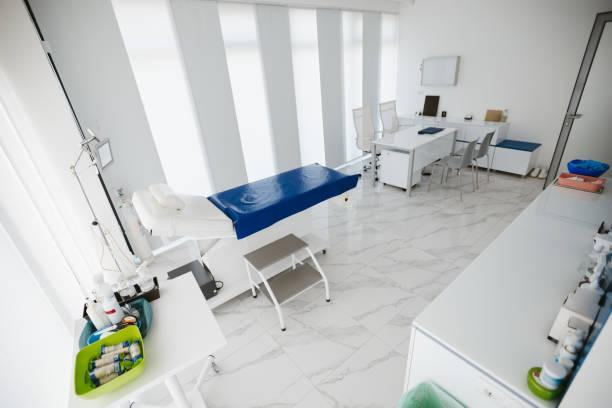Saline Stand: (50, 134, 166, 276)
bed: (137, 162, 376, 296)
chair: (347, 99, 384, 184), (434, 137, 479, 202), (466, 127, 497, 186), (376, 92, 408, 139)
stool: (242, 235, 341, 334)
tools_table: (67, 268, 231, 408)
